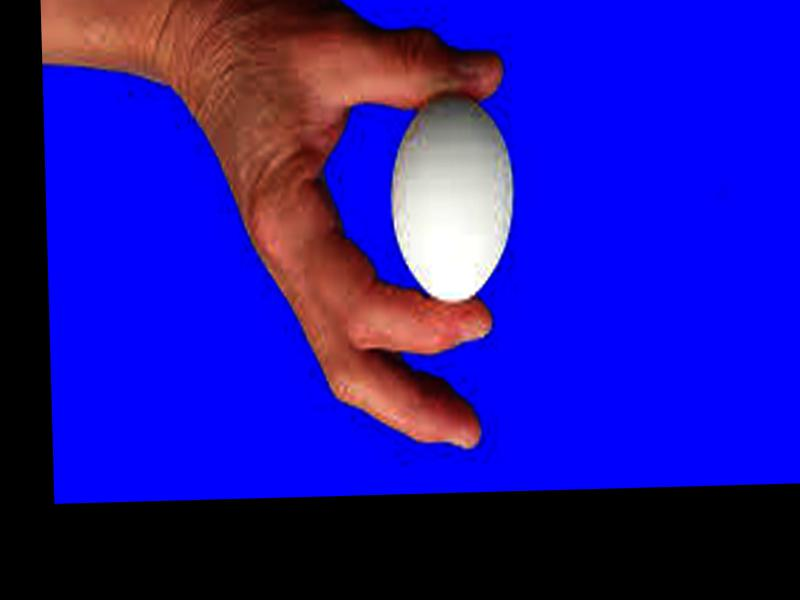Eggs: (387, 94, 516, 308)
